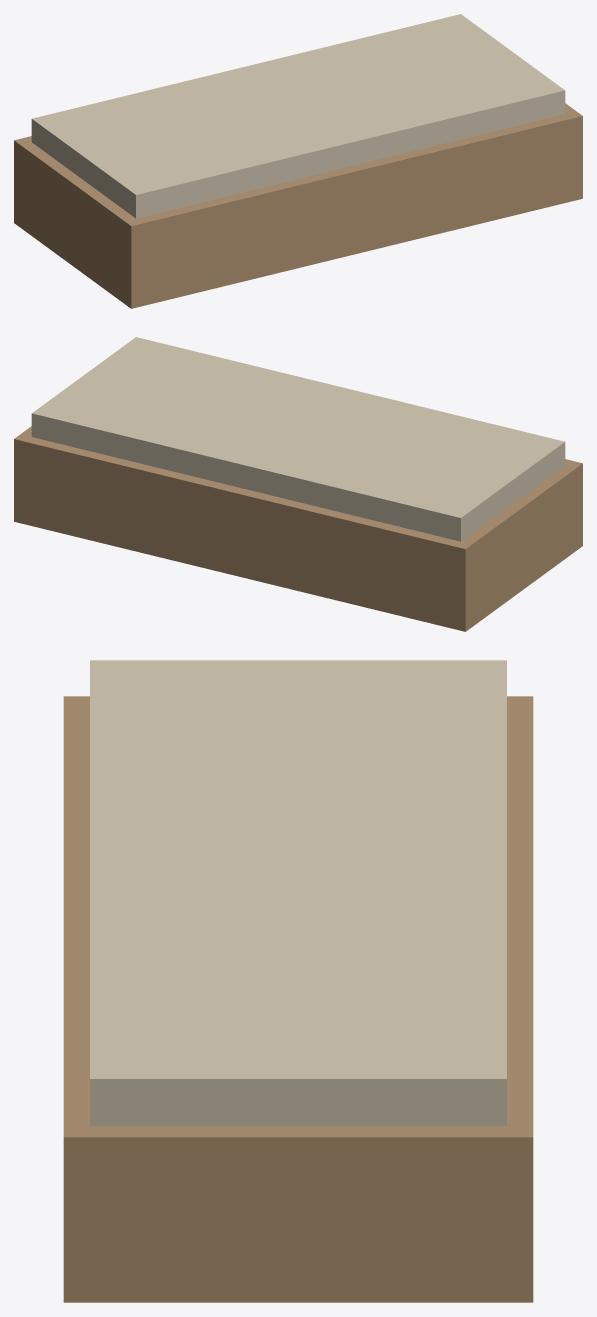
Rendered from bed.glb.
3 views of the same model, one above another, from view 1: azimuth 30°, elevation 25°; view 2: azimuth 150°, elevation 25°; view 3: azimuth 270°, elevation 25° (orthographic). The views are drawn at different scales.
Visible parts, largest first — view 1: BED_STRAW, BED_FRAME; view 2: BED_STRAW, BED_FRAME; view 3: BED_STRAW, BED_FRAME.
Boxes of the visible parts, x1,y1,x2,y2 form: BED_STRAW: (31, 14, 565, 218); BED_FRAME: (14, 103, 582, 308); BED_STRAW: (31, 337, 565, 541); BED_FRAME: (14, 426, 582, 631); BED_STRAW: (90, 660, 506, 1126); BED_FRAME: (63, 696, 533, 1302).
Size of the model in its own units: 2 by 0.45 by 0.9.
